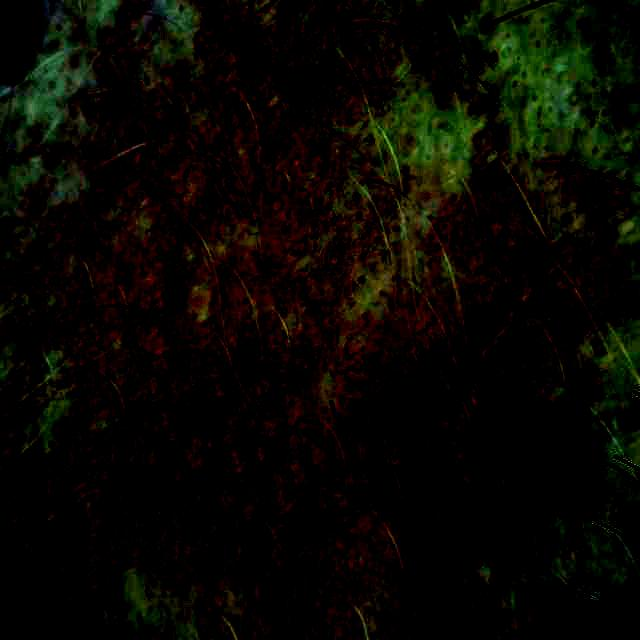AKIEC: (98, 41, 575, 614)
